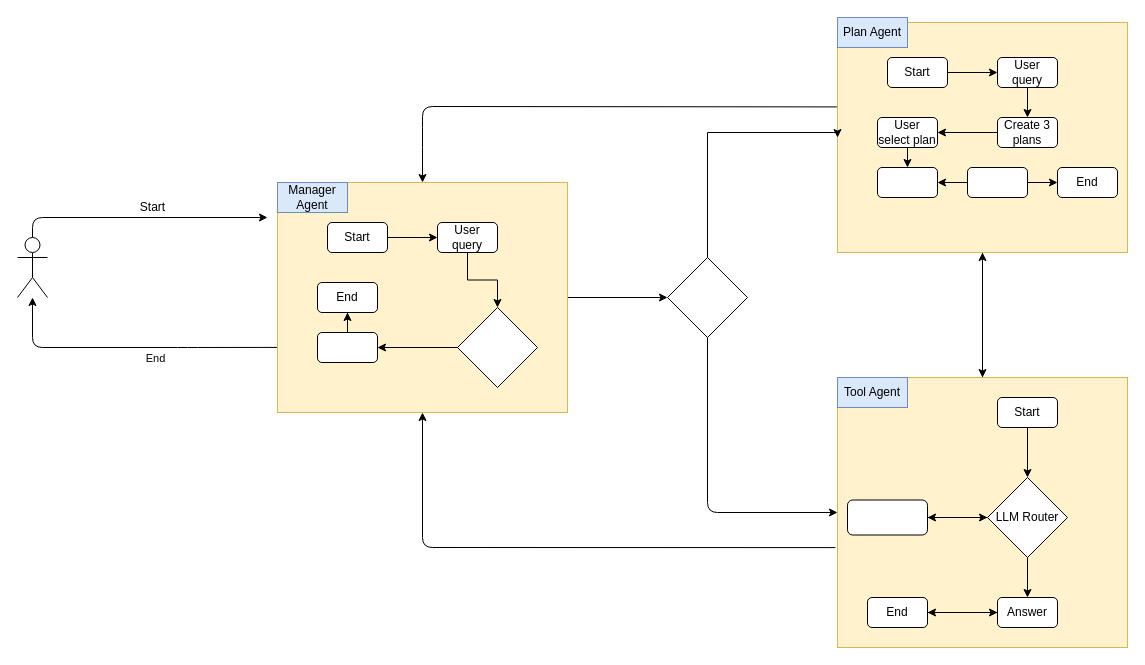
Image size: 1145x665. Some labels were removed from this diagram. The box of each missing label's shape, as (x1, y1, x2, y2) in pixels:
Final answer: (316, 332, 378, 362)
MCP: (846, 499, 928, 535)
Plan?: (666, 256, 748, 338)
Reasoning: (456, 306, 538, 388)
Select task: (876, 166, 938, 198)
Update Plan: (966, 166, 1028, 198)
User: (16, 236, 48, 298)
